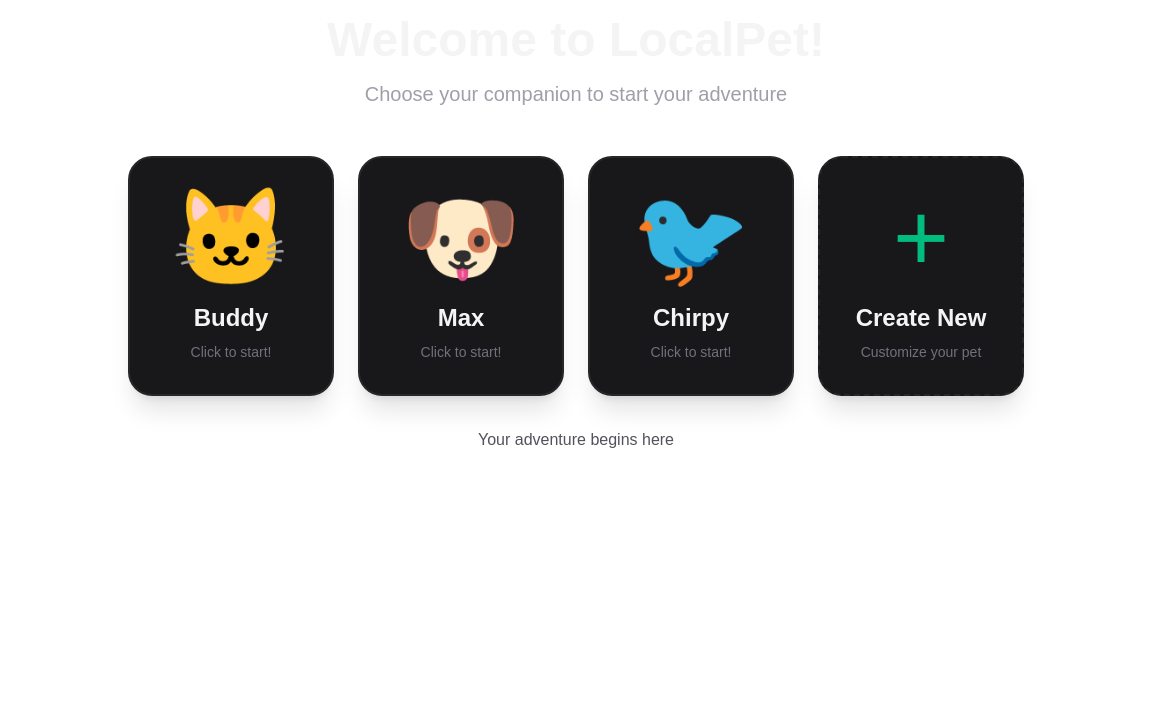
Test case: IntroScreen Component › should close modal when cancel is clicked
// Open modal
Click the heading "Create New".
click(921, 318)  # box top-left (856, 302), bottom-right (986, 334)
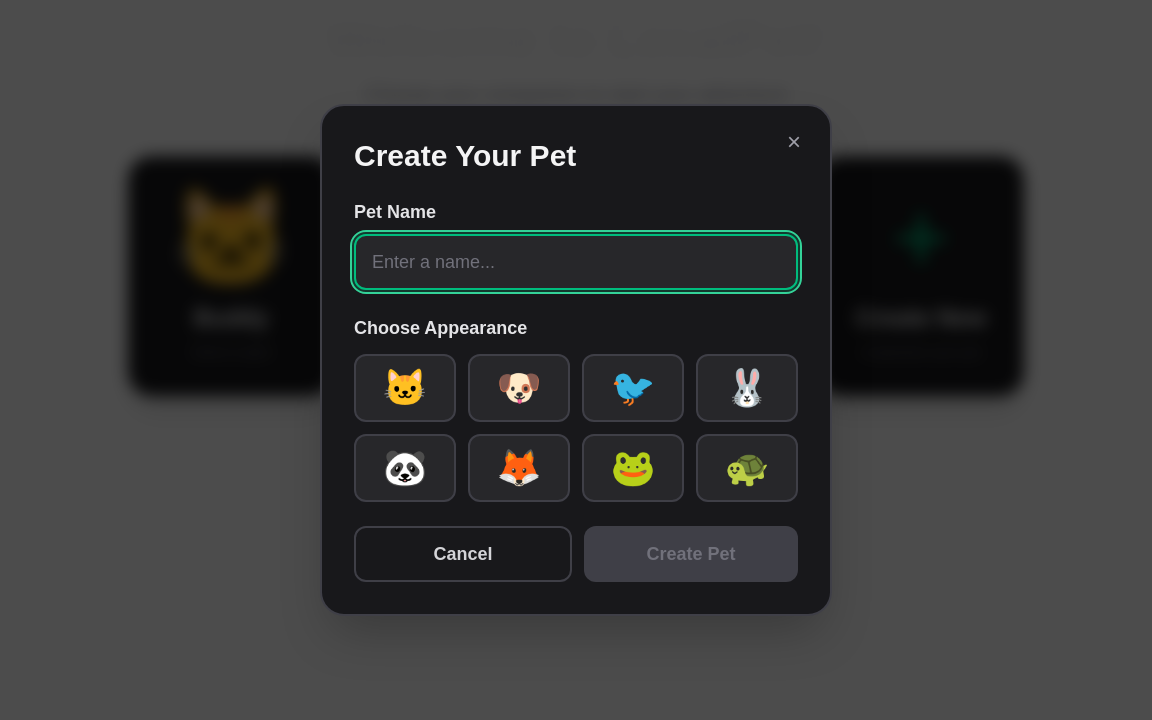
expect the heading "Create Your Pet" is shown: met, box top-left (354, 139), bottom-right (576, 172)
// Click cancel
Click the button "Cancel".
click(463, 554)  # box top-left (354, 526), bottom-right (572, 582)
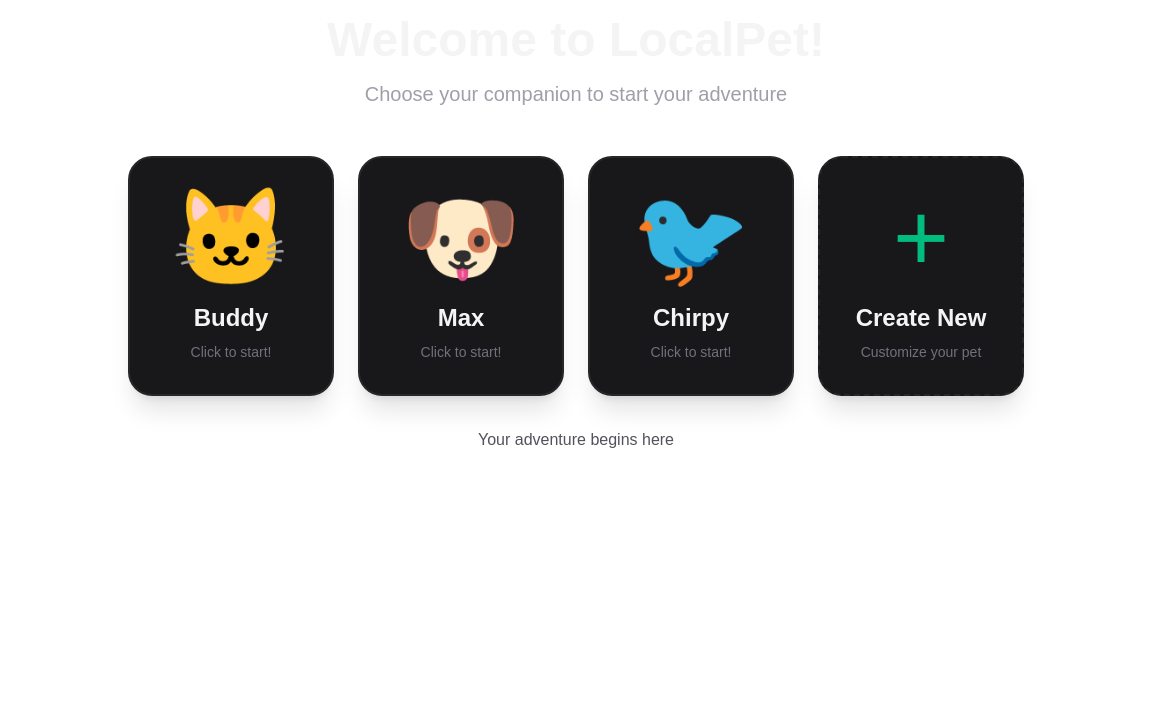
expect the heading "Create Your Pet" is gone: met
